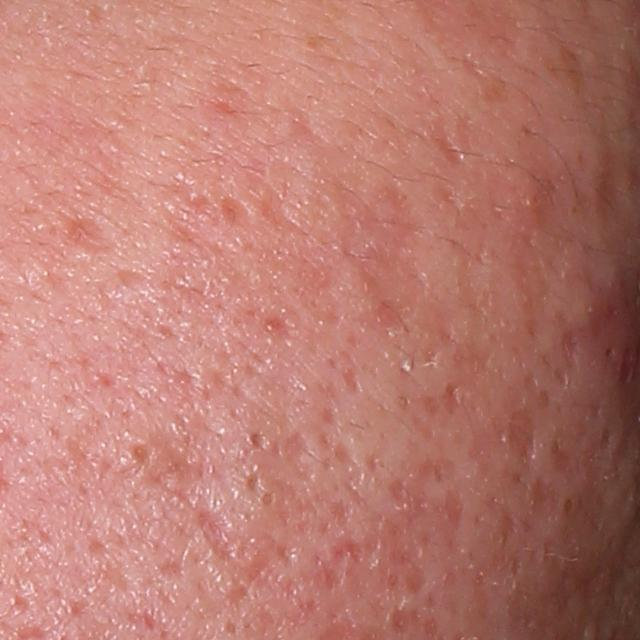atrophic_scar: (334, 172, 431, 333), (157, 173, 254, 261), (255, 155, 307, 234), (196, 508, 261, 571), (425, 111, 470, 171), (500, 405, 539, 474), (59, 215, 127, 254), (557, 322, 585, 381), (328, 434, 359, 470), (112, 268, 149, 296), (342, 364, 365, 403), (317, 402, 342, 429)
comedo: (127, 441, 153, 464), (258, 489, 276, 510)
